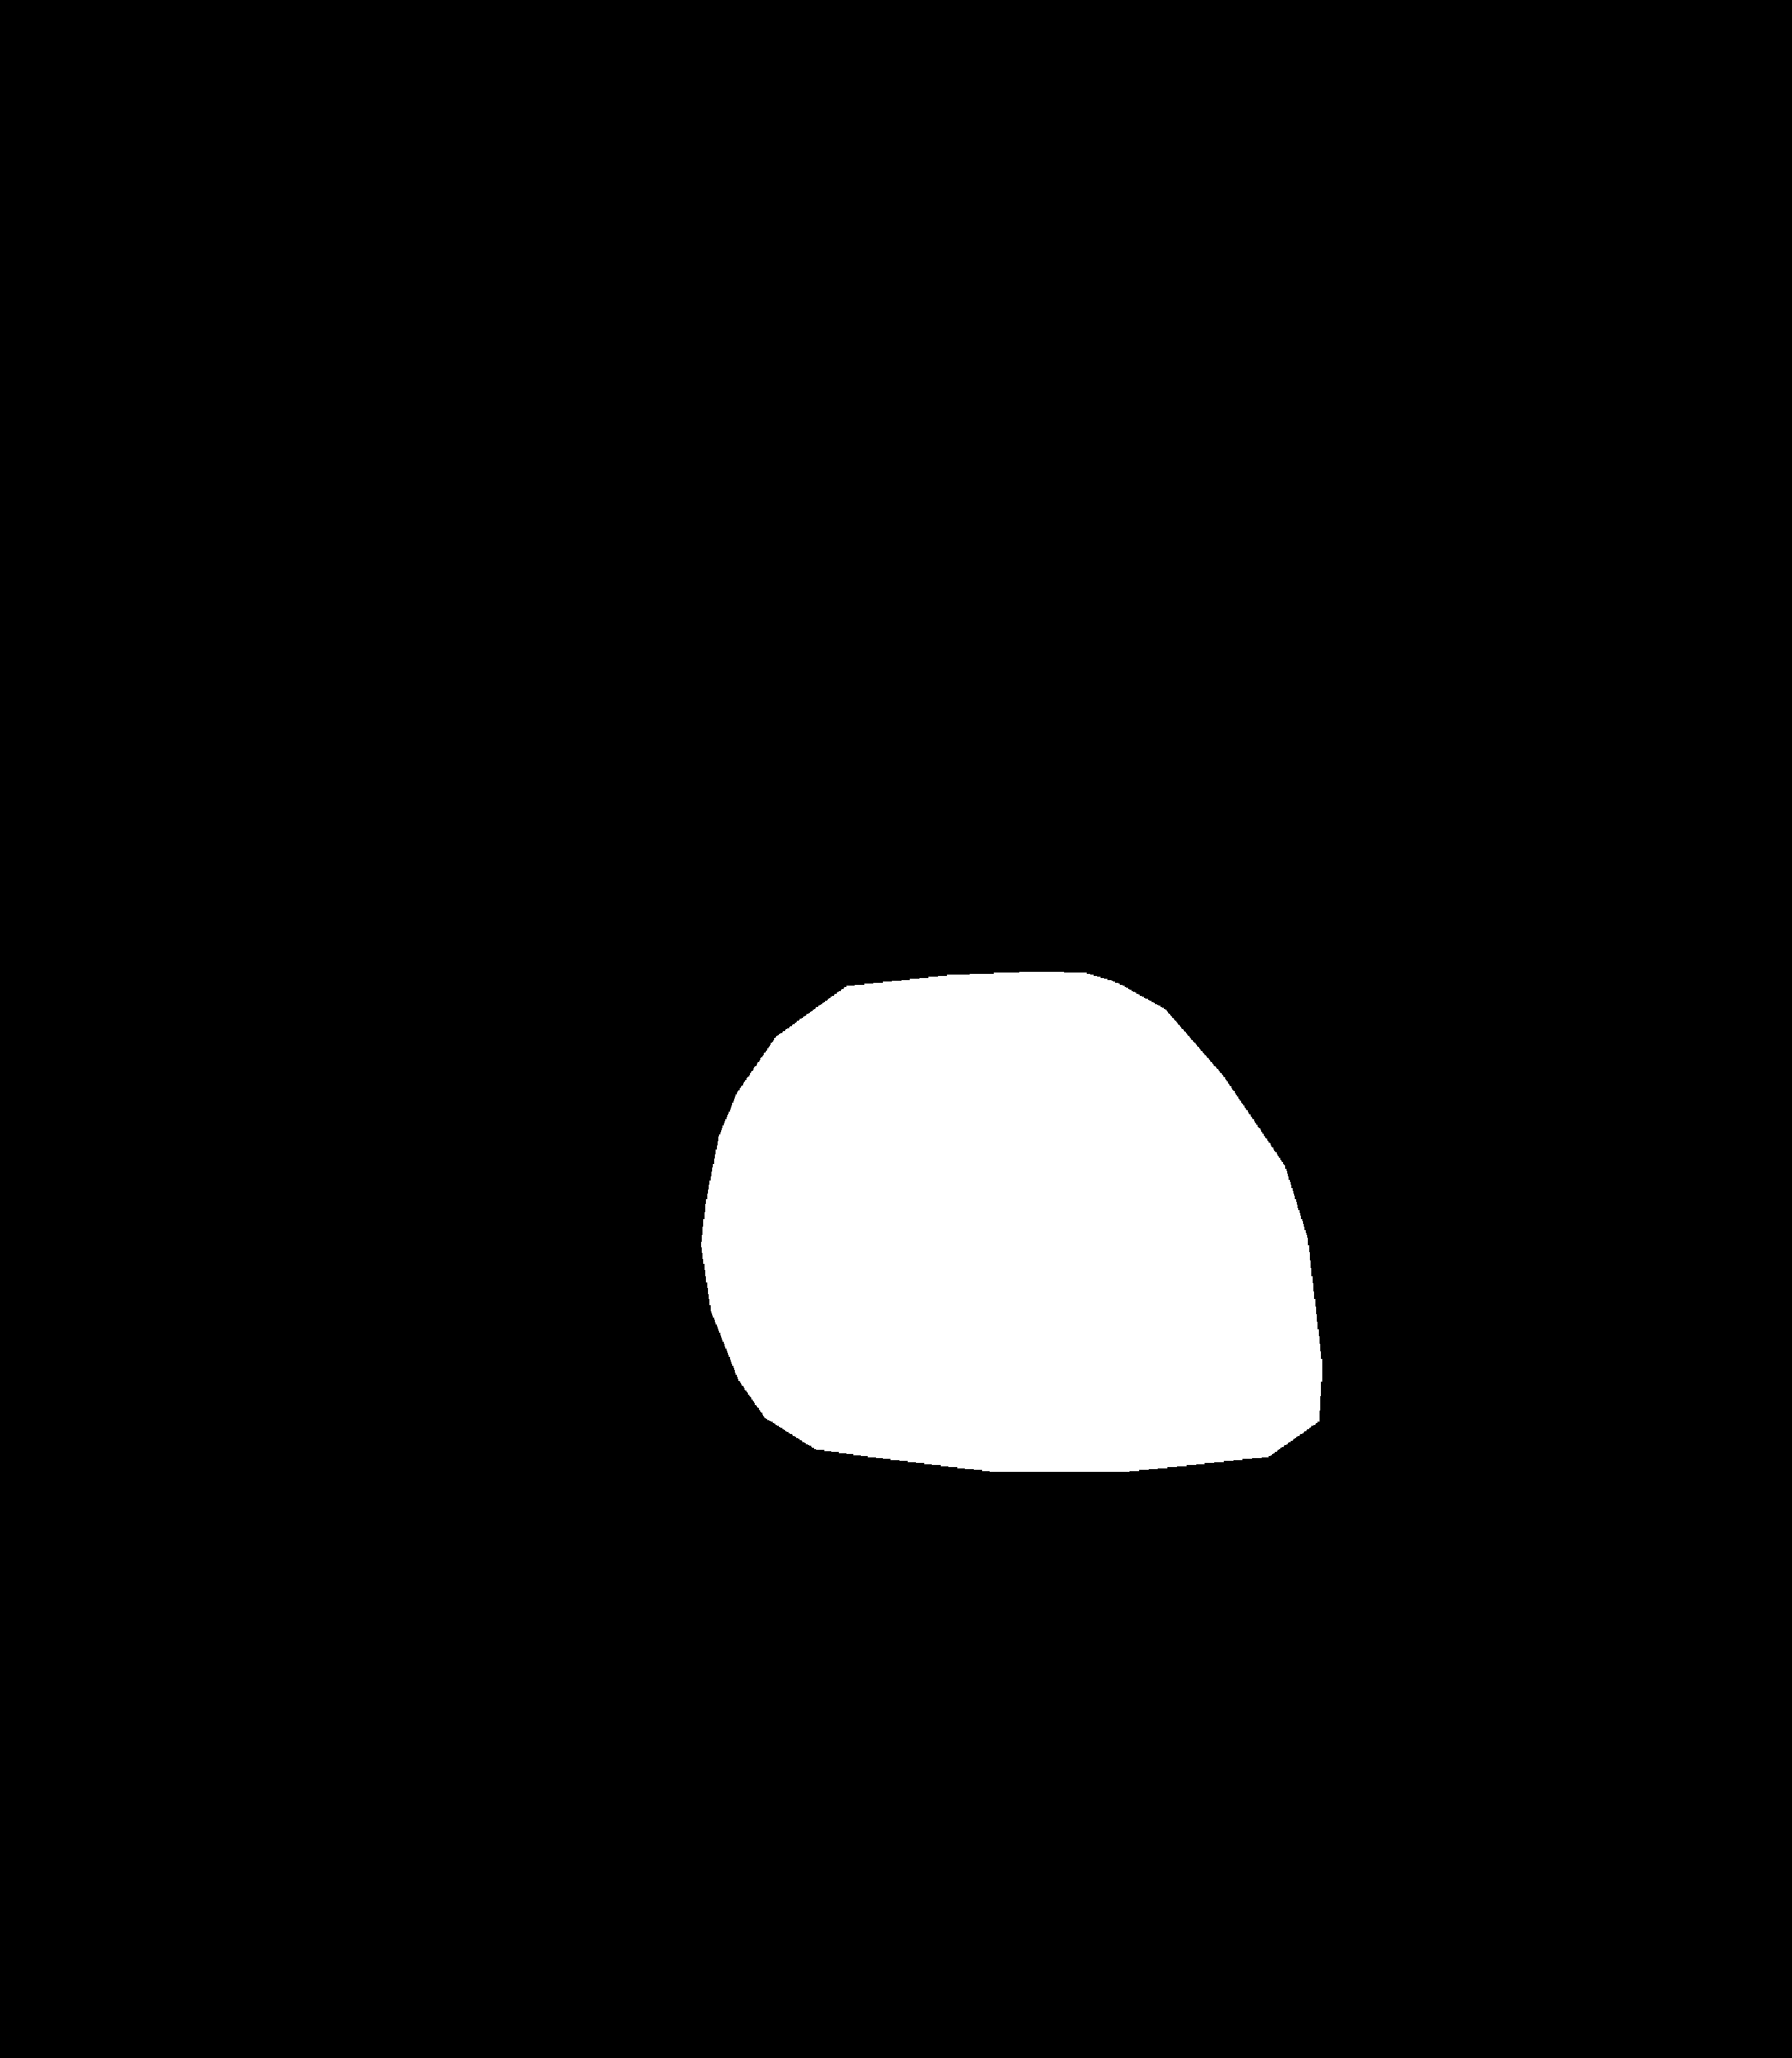heart: (703, 1020, 1319, 1556)
left_lung: (217, 378, 843, 1662)
right_lung: (1066, 430, 1589, 1600)
